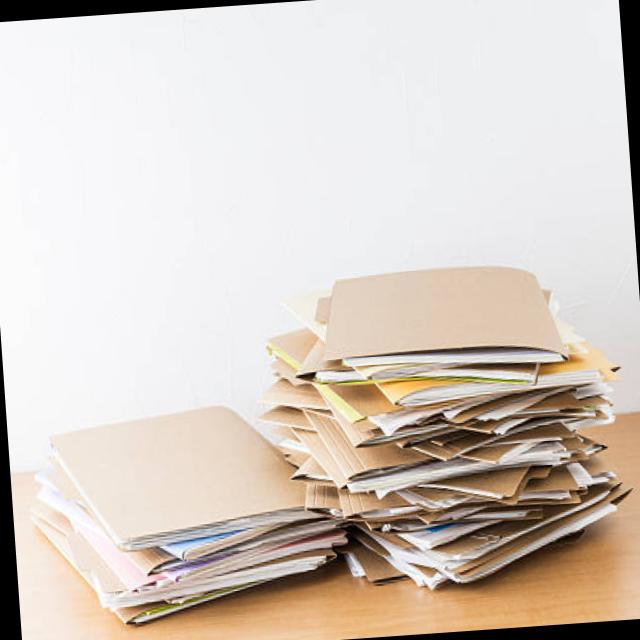electronic: (247, 252, 638, 600), (24, 394, 352, 631), (312, 256, 569, 378)
